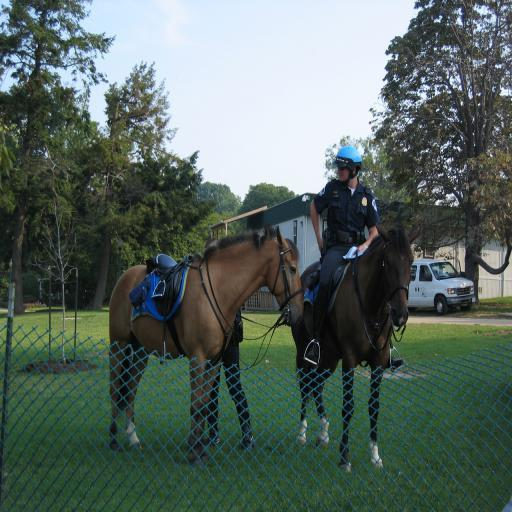horse: (107, 222, 304, 470), (290, 220, 422, 472)
